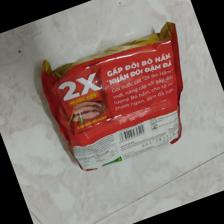3mien: (39, 21, 184, 174)
